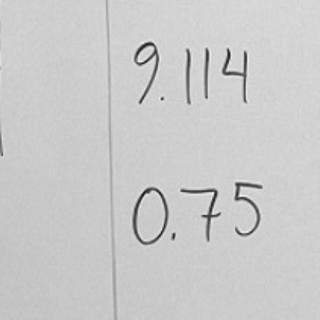.: (167, 228, 183, 244), (155, 91, 168, 106)
0: (134, 184, 168, 246)
1: (181, 46, 192, 107), (201, 45, 212, 102)
4: (219, 45, 249, 106)
5: (235, 179, 268, 243)
7: (181, 183, 222, 245)
9: (126, 40, 161, 112)
